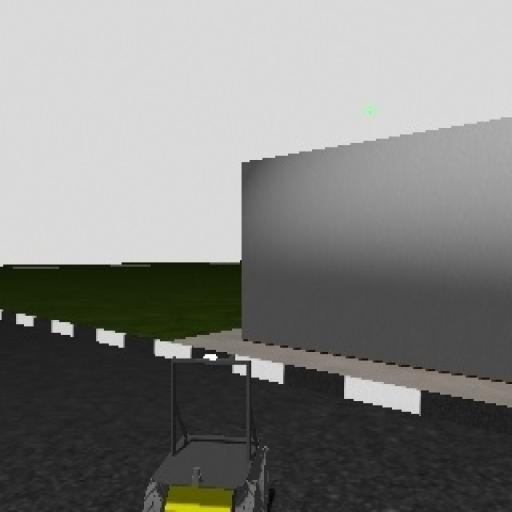huskya200: (149, 349, 271, 512)
